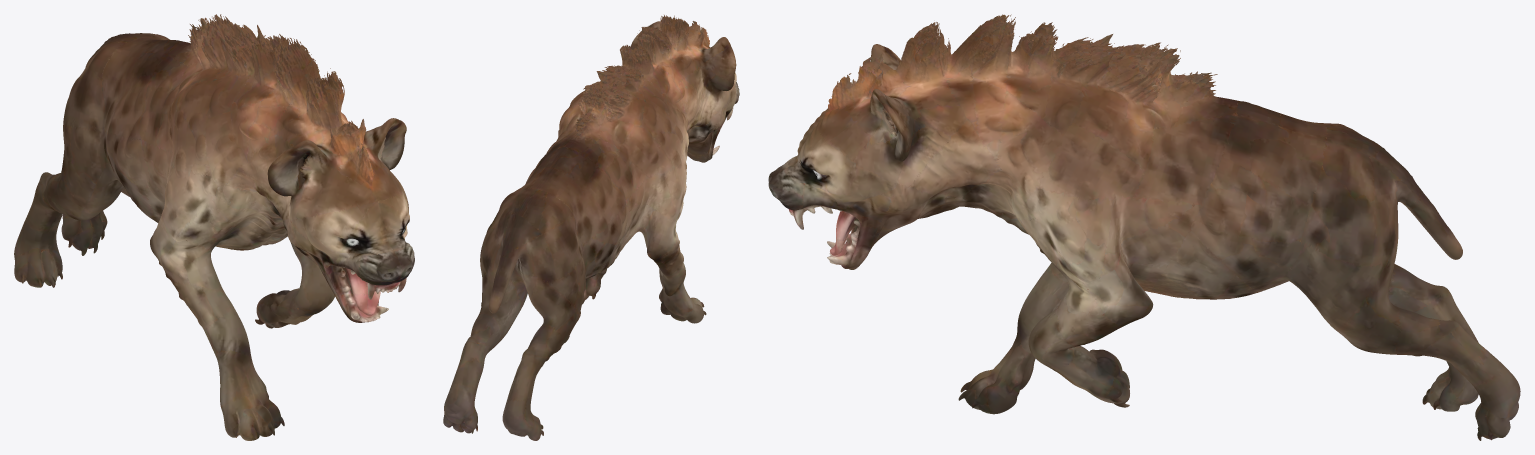
Rendered from hyena.glb.
3 renders of one model, left to right at view 1: azimuth 30°, elevation 25°; view 2: azimuth 150°, elevation 25°; view 3: azimuth 270°, elevation 25°, orthographic. The views are drawn at different scales.
Visible parts, largest first — view 1: Mesh_0.008; view 2: Mesh_0.008; view 3: Mesh_0.008.
Boxes of the visible parts, x1,y1,x2,y2 form: Mesh_0.008: (14, 14, 414, 440); Mesh_0.008: (443, 15, 739, 440); Mesh_0.008: (768, 14, 1520, 440).
Size of the model in its own units: 0.5499 by 1.21 by 1.98.
Materials: 1 (1 with a texture image).
